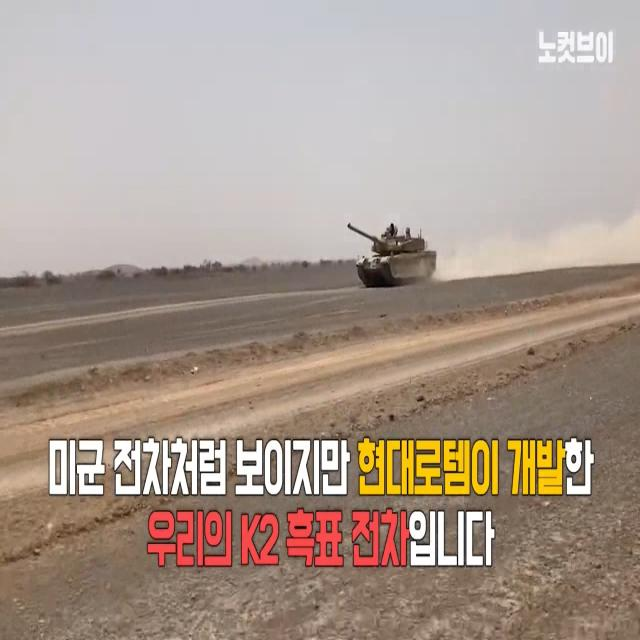korea tank: (347, 219, 438, 286)
